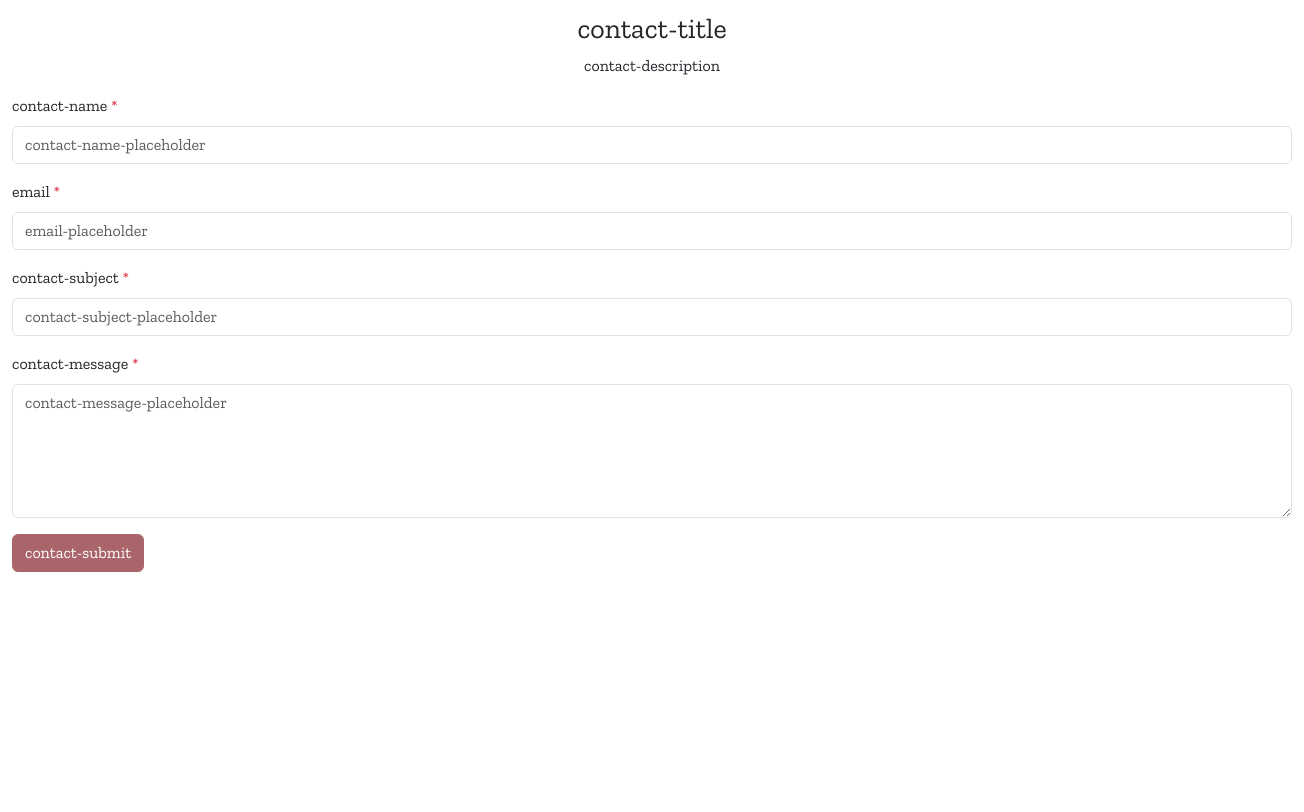
ContactForm › submits the form when the form is valid but receives ContactNameEmptyException
Note: Fill the form
Type "John Doe" into the field labelled "contact-name *" at point(652, 145), box x1=12 y1=126 x2=1292 y2=164
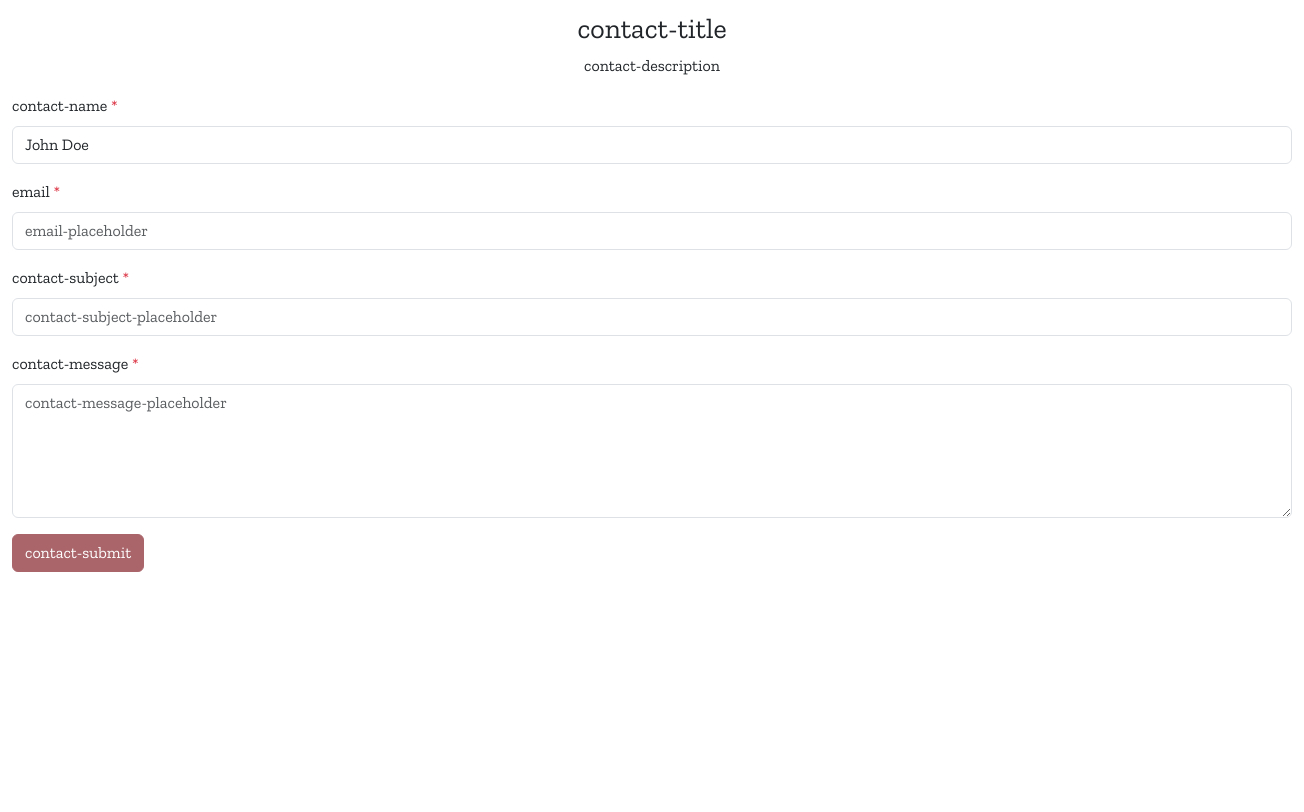
Type "text@example.com" into the field labelled "email *" at point(652, 231), box x1=12 y1=212 x2=1292 y2=250
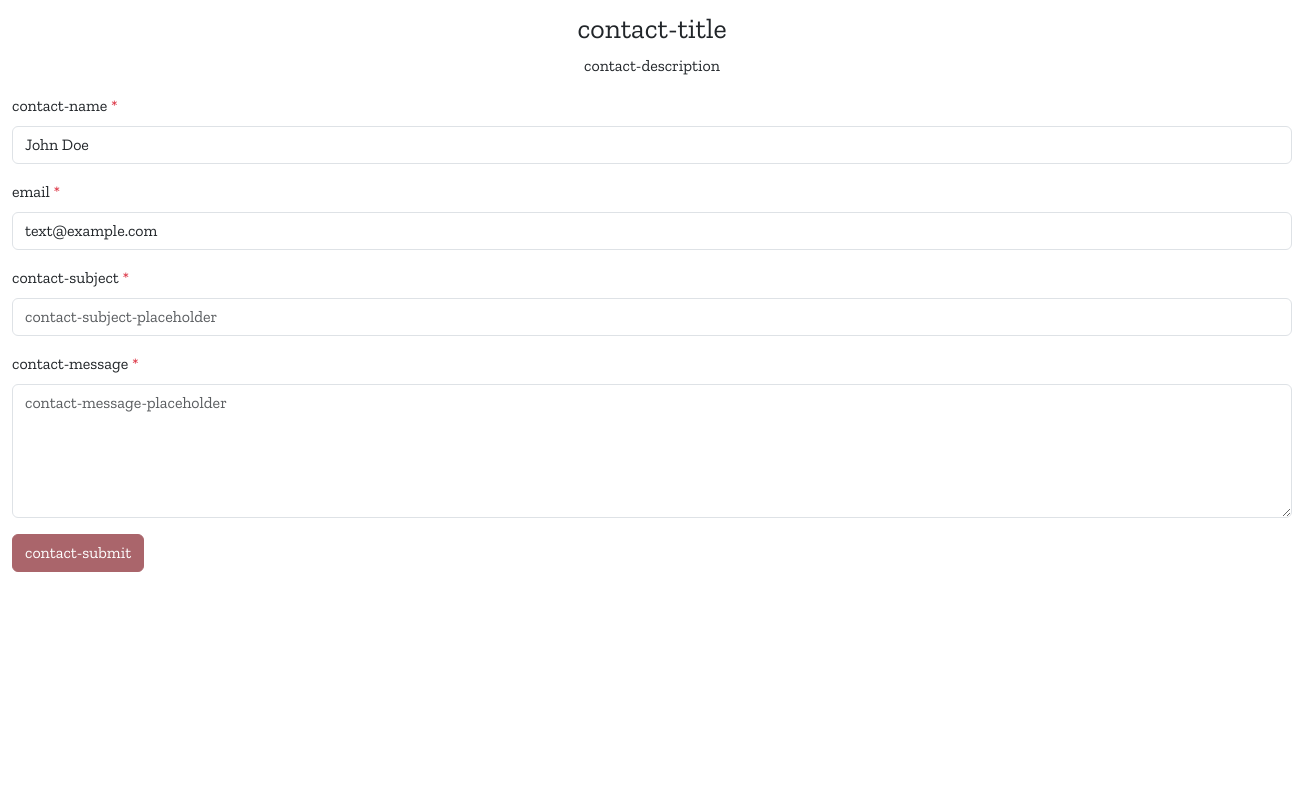
Type "Test Subject" into the field labelled "contact-subject *" at point(652, 317), box x1=12 y1=298 x2=1292 y2=336
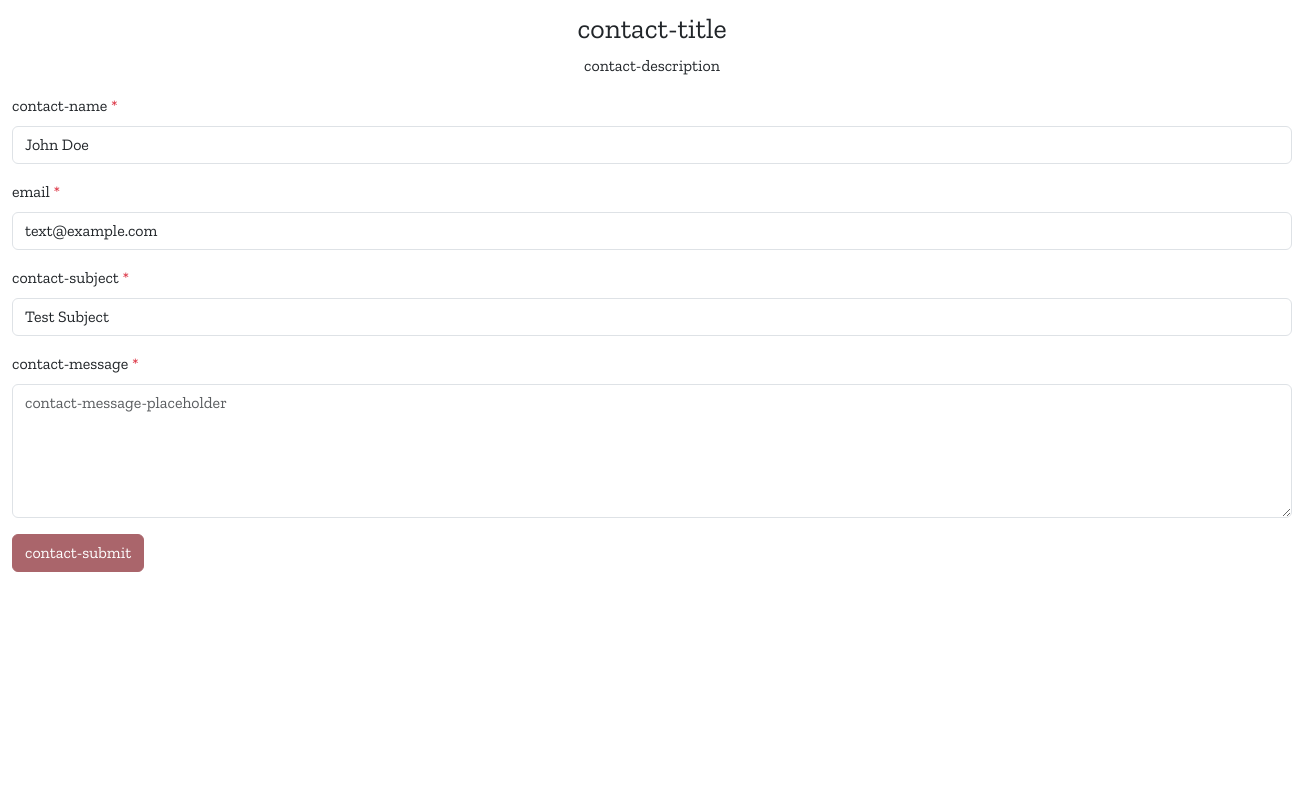
Type "Test Message" into the text box labelled "contact-message *" at point(652, 451), box x1=12 y1=384 x2=1292 y2=518
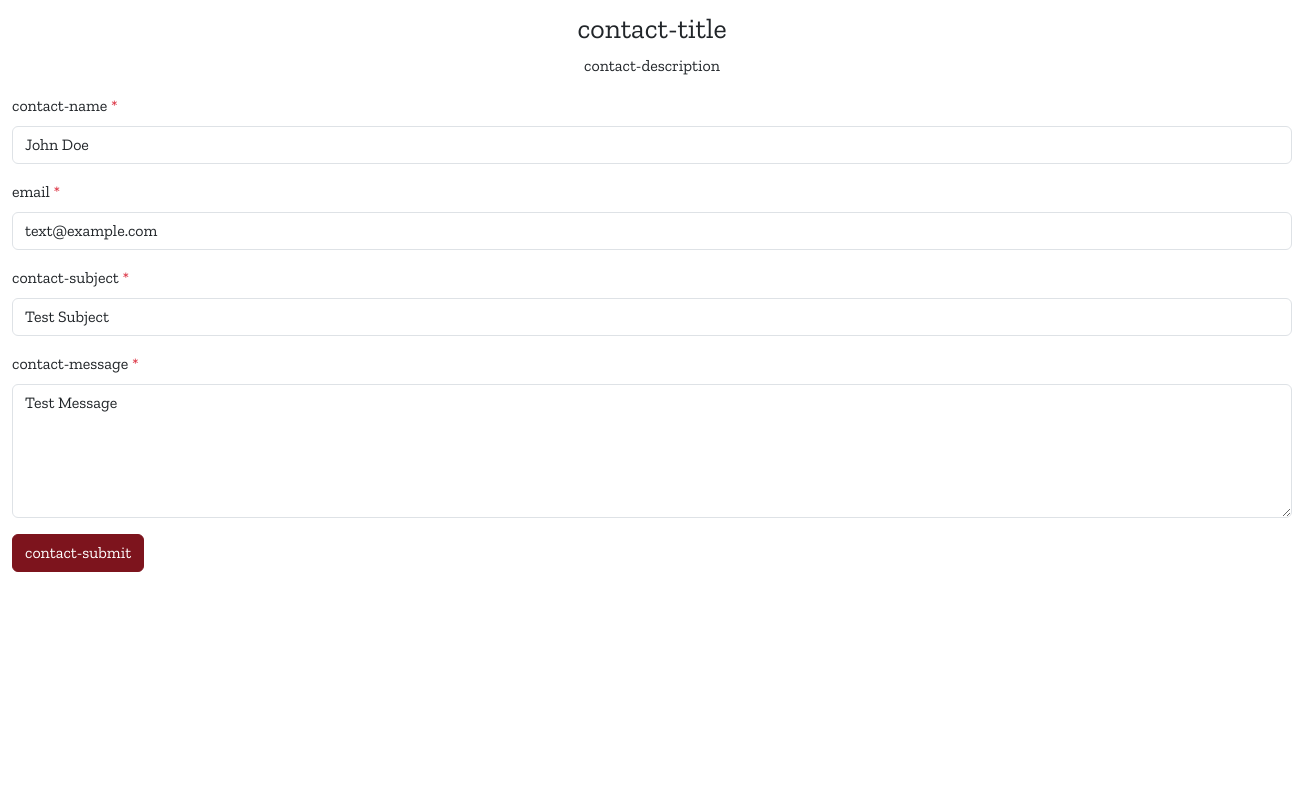
Submit the form from the button, box x1=12 y1=534 x2=144 y2=572
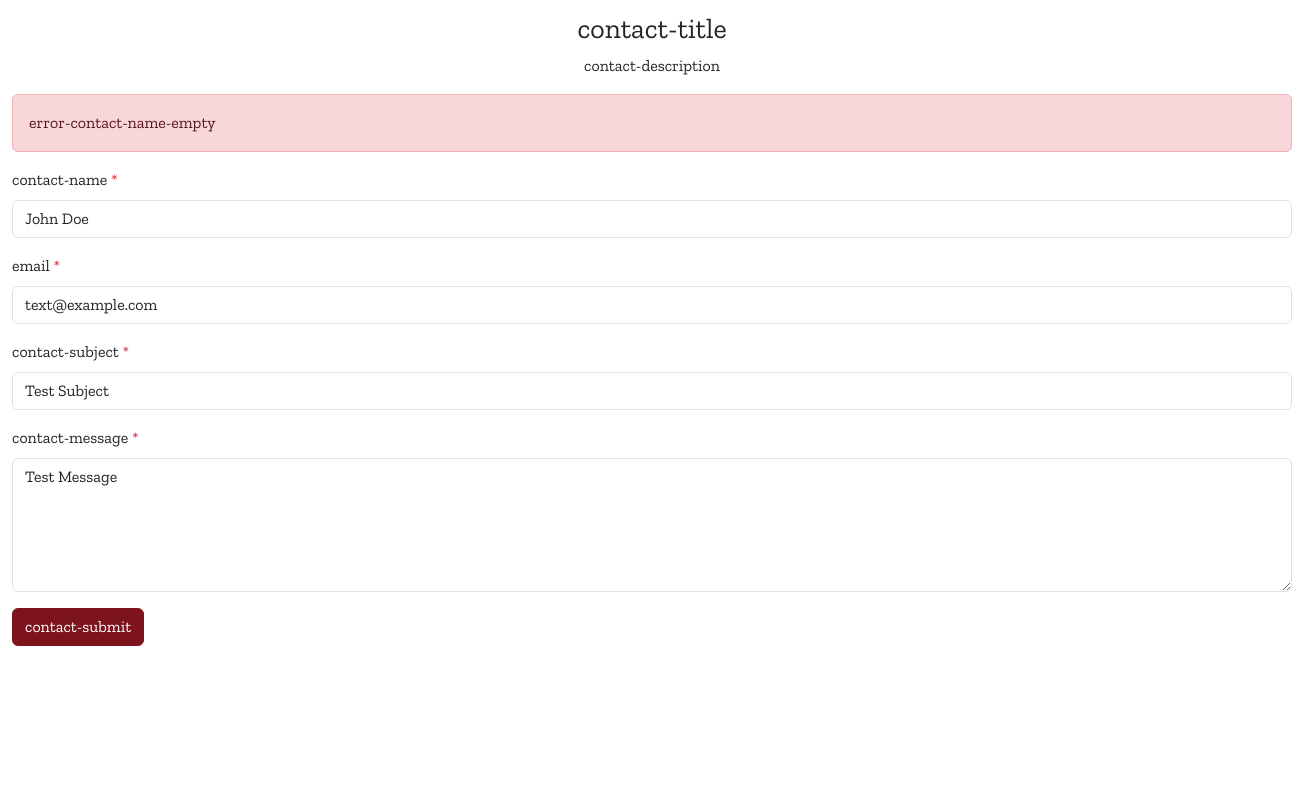
Result: the text "error-contact-name-empty" is shown at x1=12 y1=94 x2=1292 y2=152
